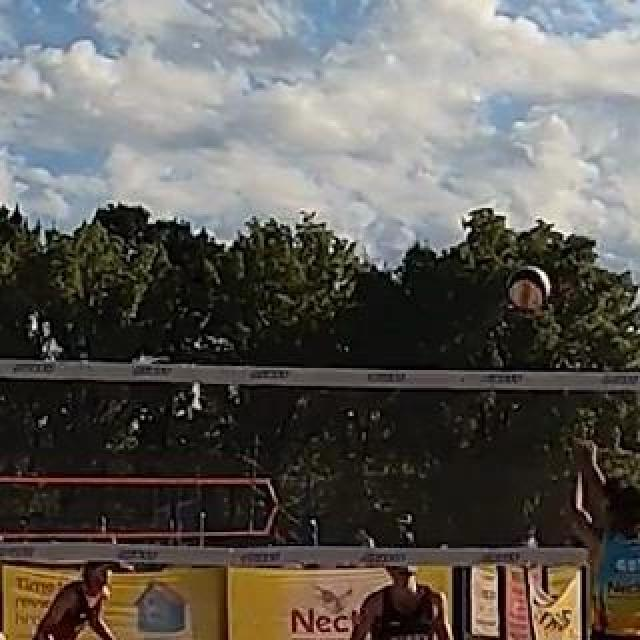volleyball: (509, 264, 549, 308)
